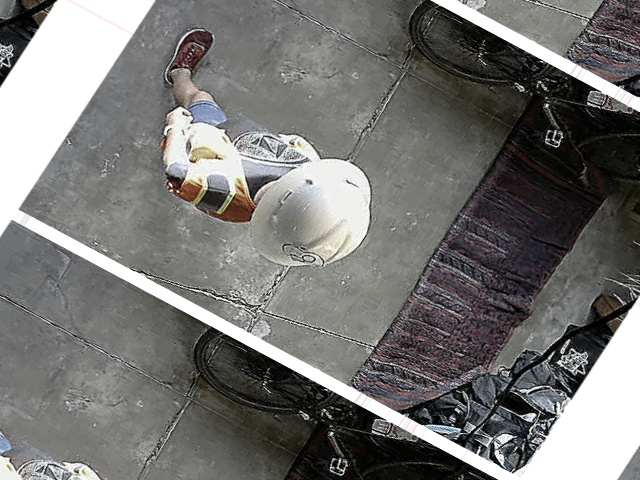eight: (276, 235, 329, 273)
